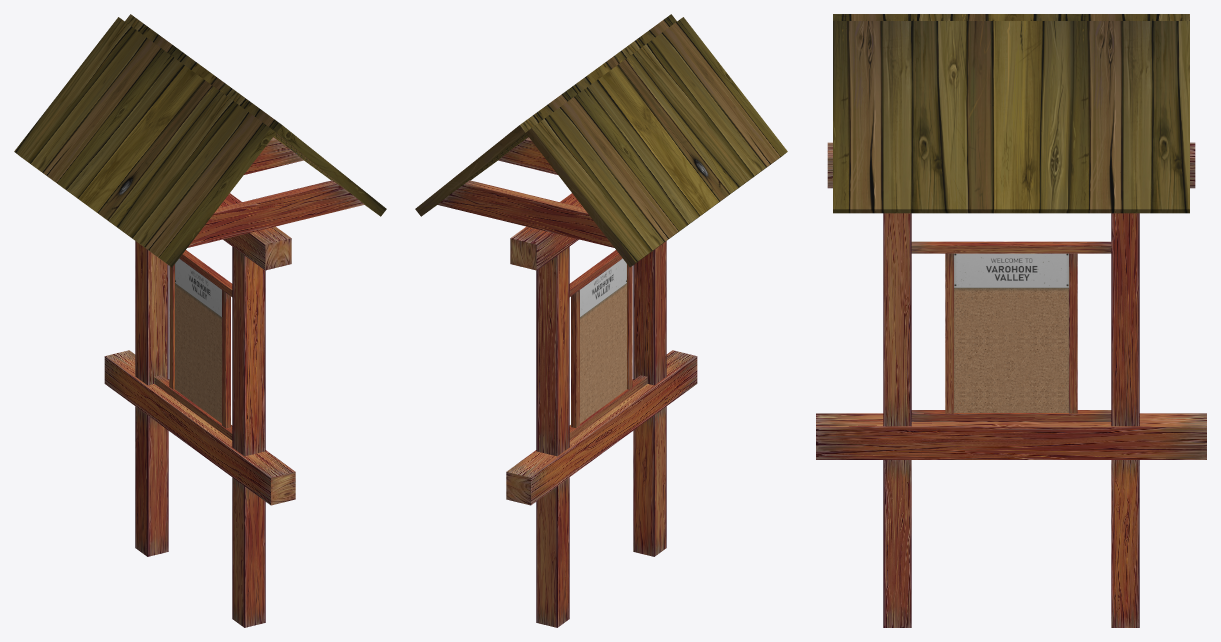
File: SM_RangerBoard.fbx
3 renders of one model, left to right at view 1: azimuth 30°, elevation 25°; view 2: azimuth 150°, elevation 25°; view 3: azimuth 270°, elevation 25°, orthographic. The views are drawn at different scales.
Visible parts, largest first — view 1: RangerBoard; view 2: RangerBoard; view 3: RangerBoard.
Part boxes in pixels (box(x1,y1,x2,y2)): RangerBoard: box(14, 14, 386, 627); RangerBoard: box(415, 14, 787, 627); RangerBoard: box(816, 14, 1206, 627).
Size of the model in its own units: 10.52 by 23.42 by 13.72.
3 materials, 3 textured.
